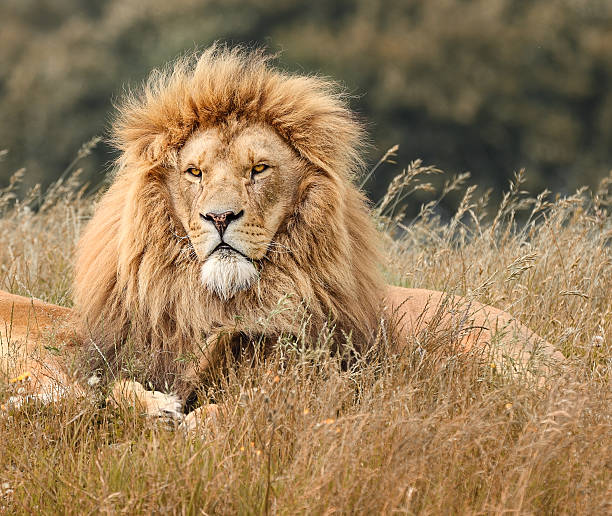lion: (48, 23, 427, 402)
